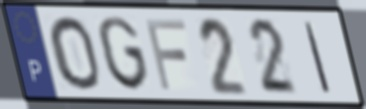2: (196, 15, 252, 97), (247, 16, 299, 97)
F: (143, 16, 189, 92)
G: (96, 14, 152, 93)
I: (302, 19, 333, 95)
O: (46, 13, 103, 92)
